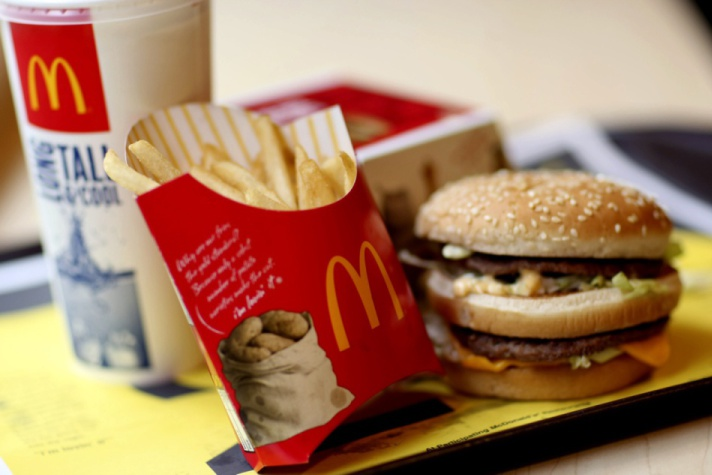mcdonalds: (319, 229, 410, 363), (25, 49, 90, 119)
